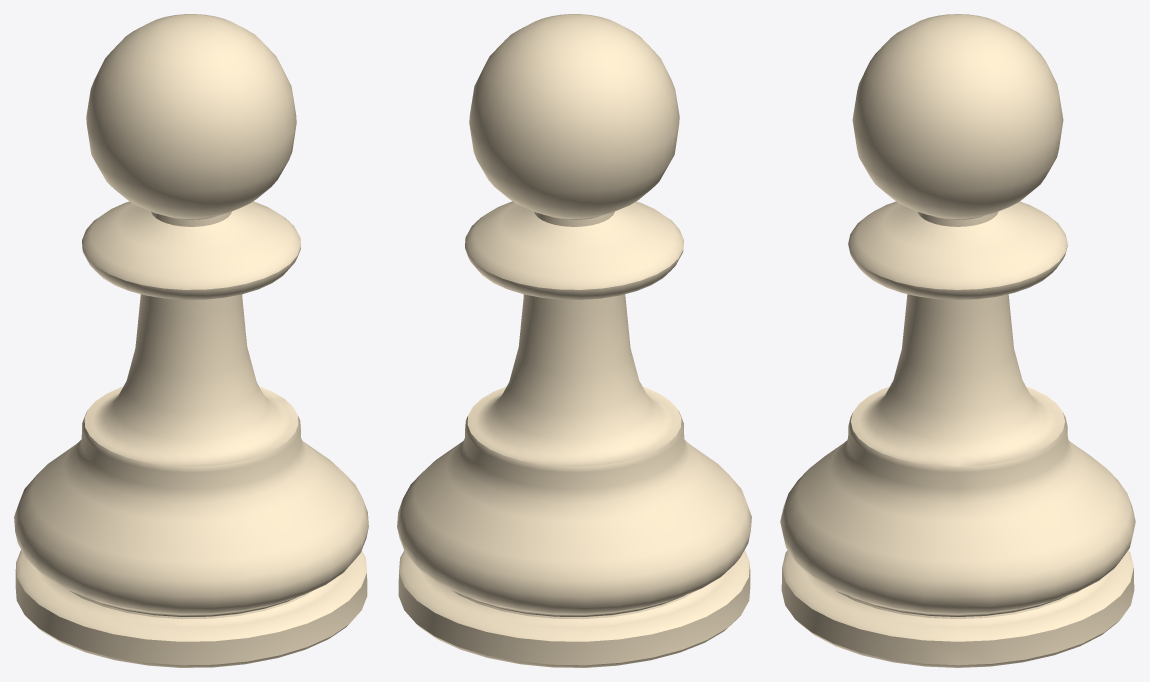
Rendered from Pawn.fbx.
3 views of the same model, side by side, from view 1: azimuth 30°, elevation 25°; view 2: azimuth 150°, elevation 25°; view 3: azimuth 270°, elevation 25° (orthographic).
Parts seen in each view (by area): view 1: Pawn; view 2: Pawn; view 3: Pawn.
Boxes of the visible parts, x1,y1,x2,y2 form: Pawn: [14, 14, 368, 667]; Pawn: [397, 14, 751, 667]; Pawn: [780, 14, 1135, 667].
Bounding box in the file's own units: 45.83 × 81.87 × 45.83.
